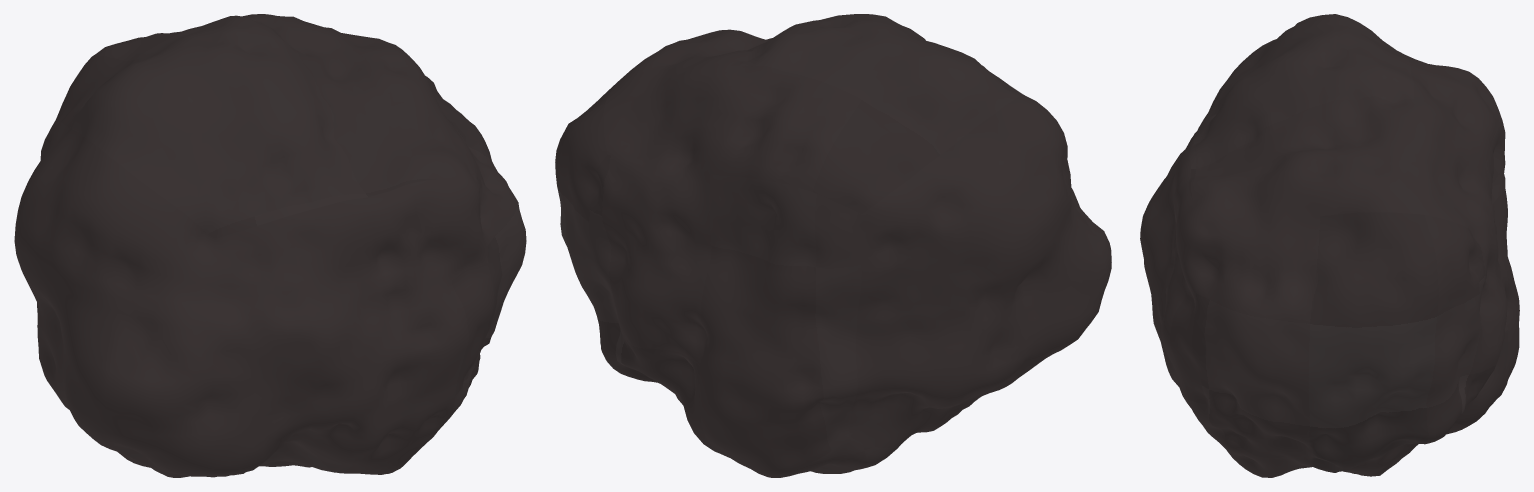
The model's file is meteor.glb.
3 views of the same model, side by side, from view 1: azimuth 30°, elevation 25°; view 2: azimuth 150°, elevation 25°; view 3: azimuth 270°, elevation 25° (orthographic). The views are drawn at different scales.
Visible parts, largest first — view 1: Object_2; view 2: Object_2; view 3: Object_2.
Part boxes in pixels (x1=…): Object_2: x1=14, y1=14, x2=526, y2=477; Object_2: x1=555, y1=14, x2=1111, y2=477; Object_2: x1=1140, y1=14, x2=1519, y2=477.
Bounding box in the file's own units: 1.83 × 1.64 × 1.45.
Materials: 1 (1 with a texture image).
